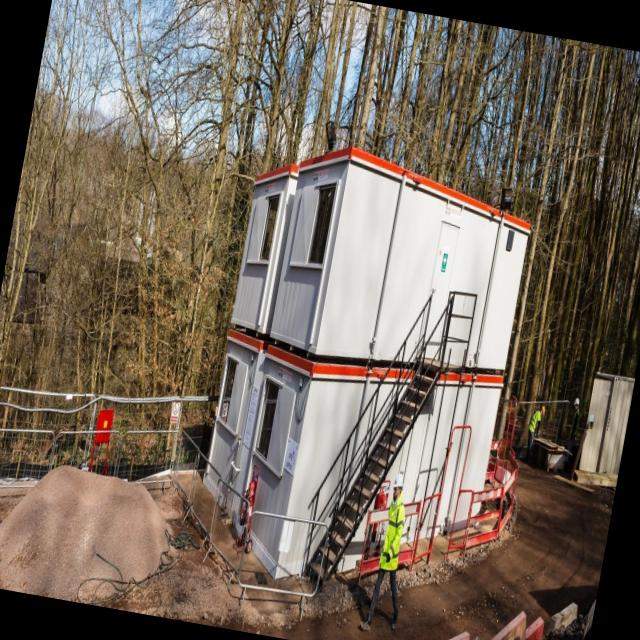helmet: (390, 471, 406, 494), (539, 402, 547, 416)
vest: (377, 498, 410, 575), (527, 408, 541, 437)
